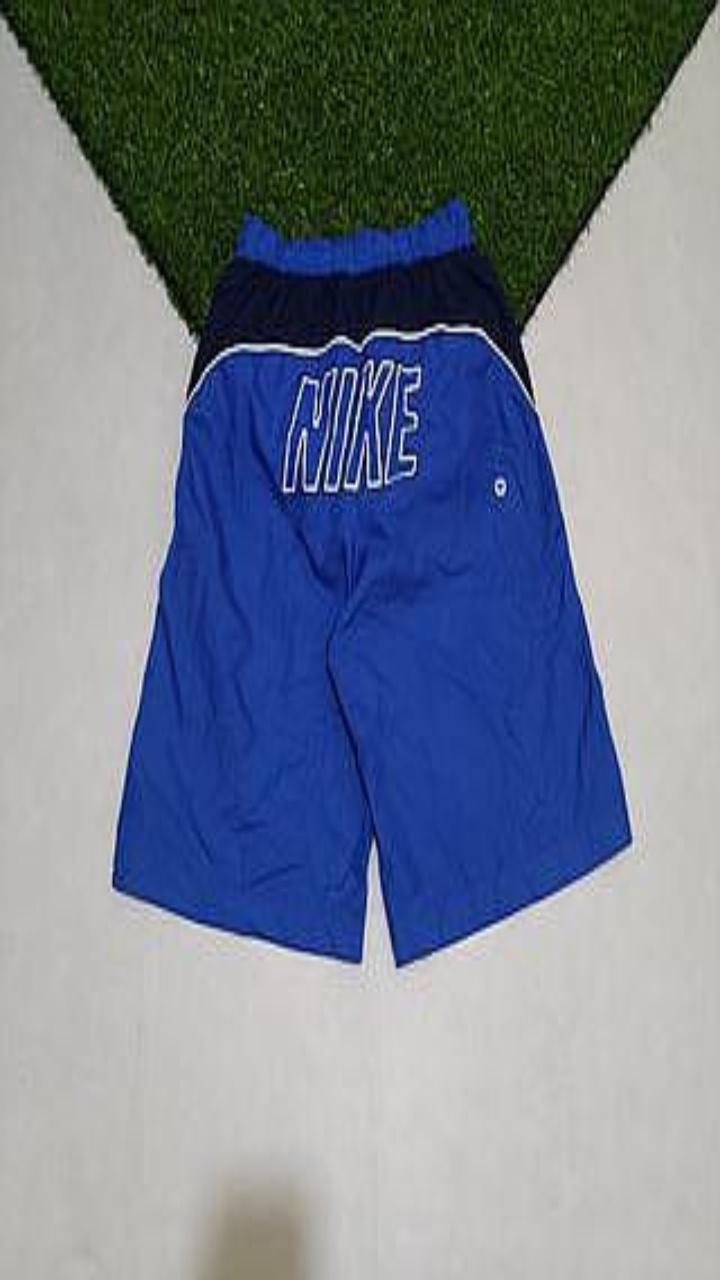Shorts: (113, 200, 630, 964)
